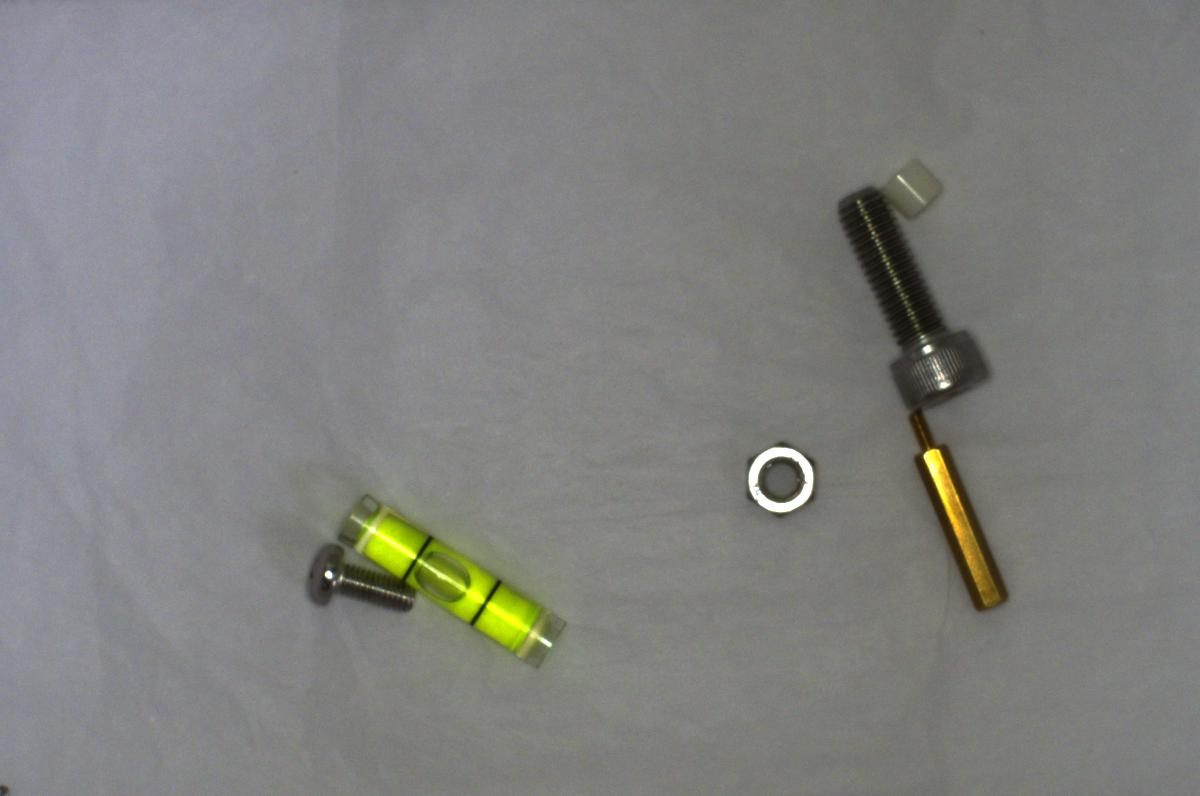Hexagon nut: (744, 433, 818, 523)
Hexagon pillar: (907, 401, 1012, 622)
Hexagon screw: (832, 180, 995, 400)
Horizontal bubble: (327, 495, 575, 672)
Plastic cushion pillar: (868, 147, 944, 225)
Round head screw: (295, 541, 417, 616)
